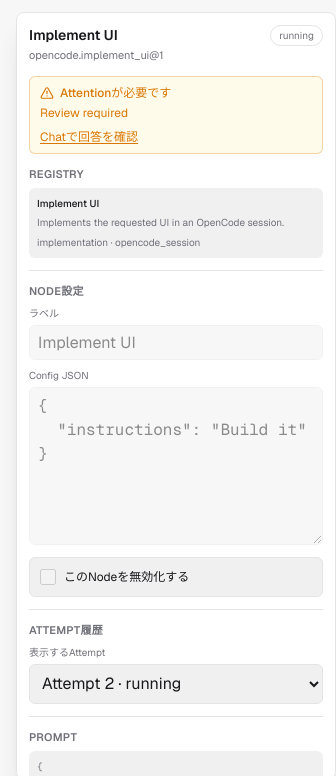
WorkflowGraphInspector › switches between historical Attempts
Step 1. Select "Attempt 1 · failed" in the dropdown labelled "表示するAttempt" → (176,684), box [29,664,323,704]
(page scrolled)
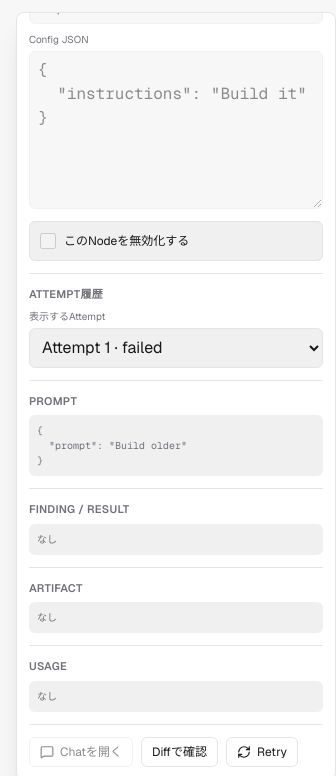
Expected: the text "{ \"prompt\": \"Build older\" }" is shown, [29,415,323,476]
